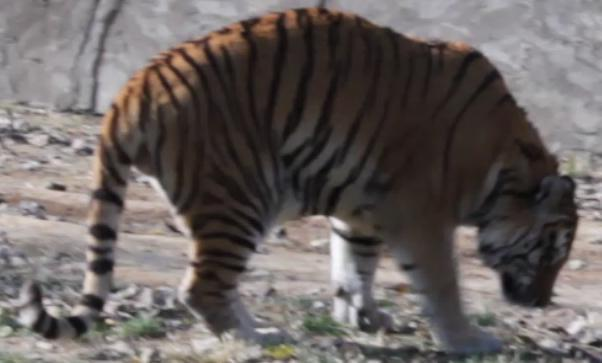tiger: (20, 8, 577, 351)
